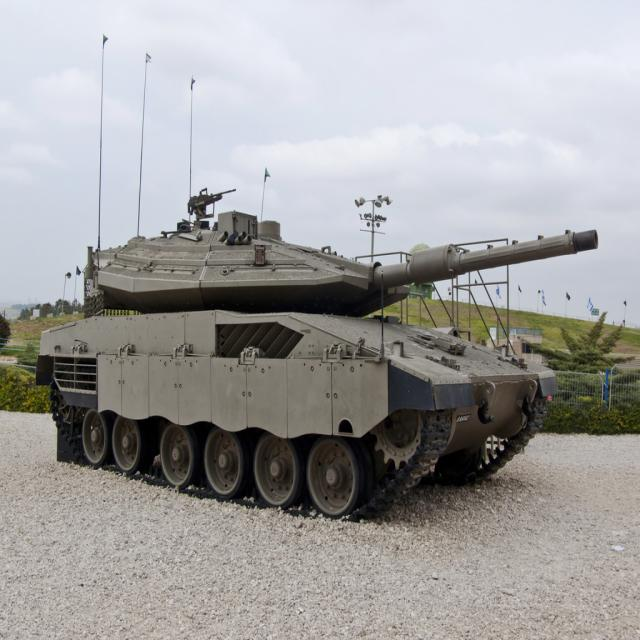tank: (35, 31, 598, 516)
